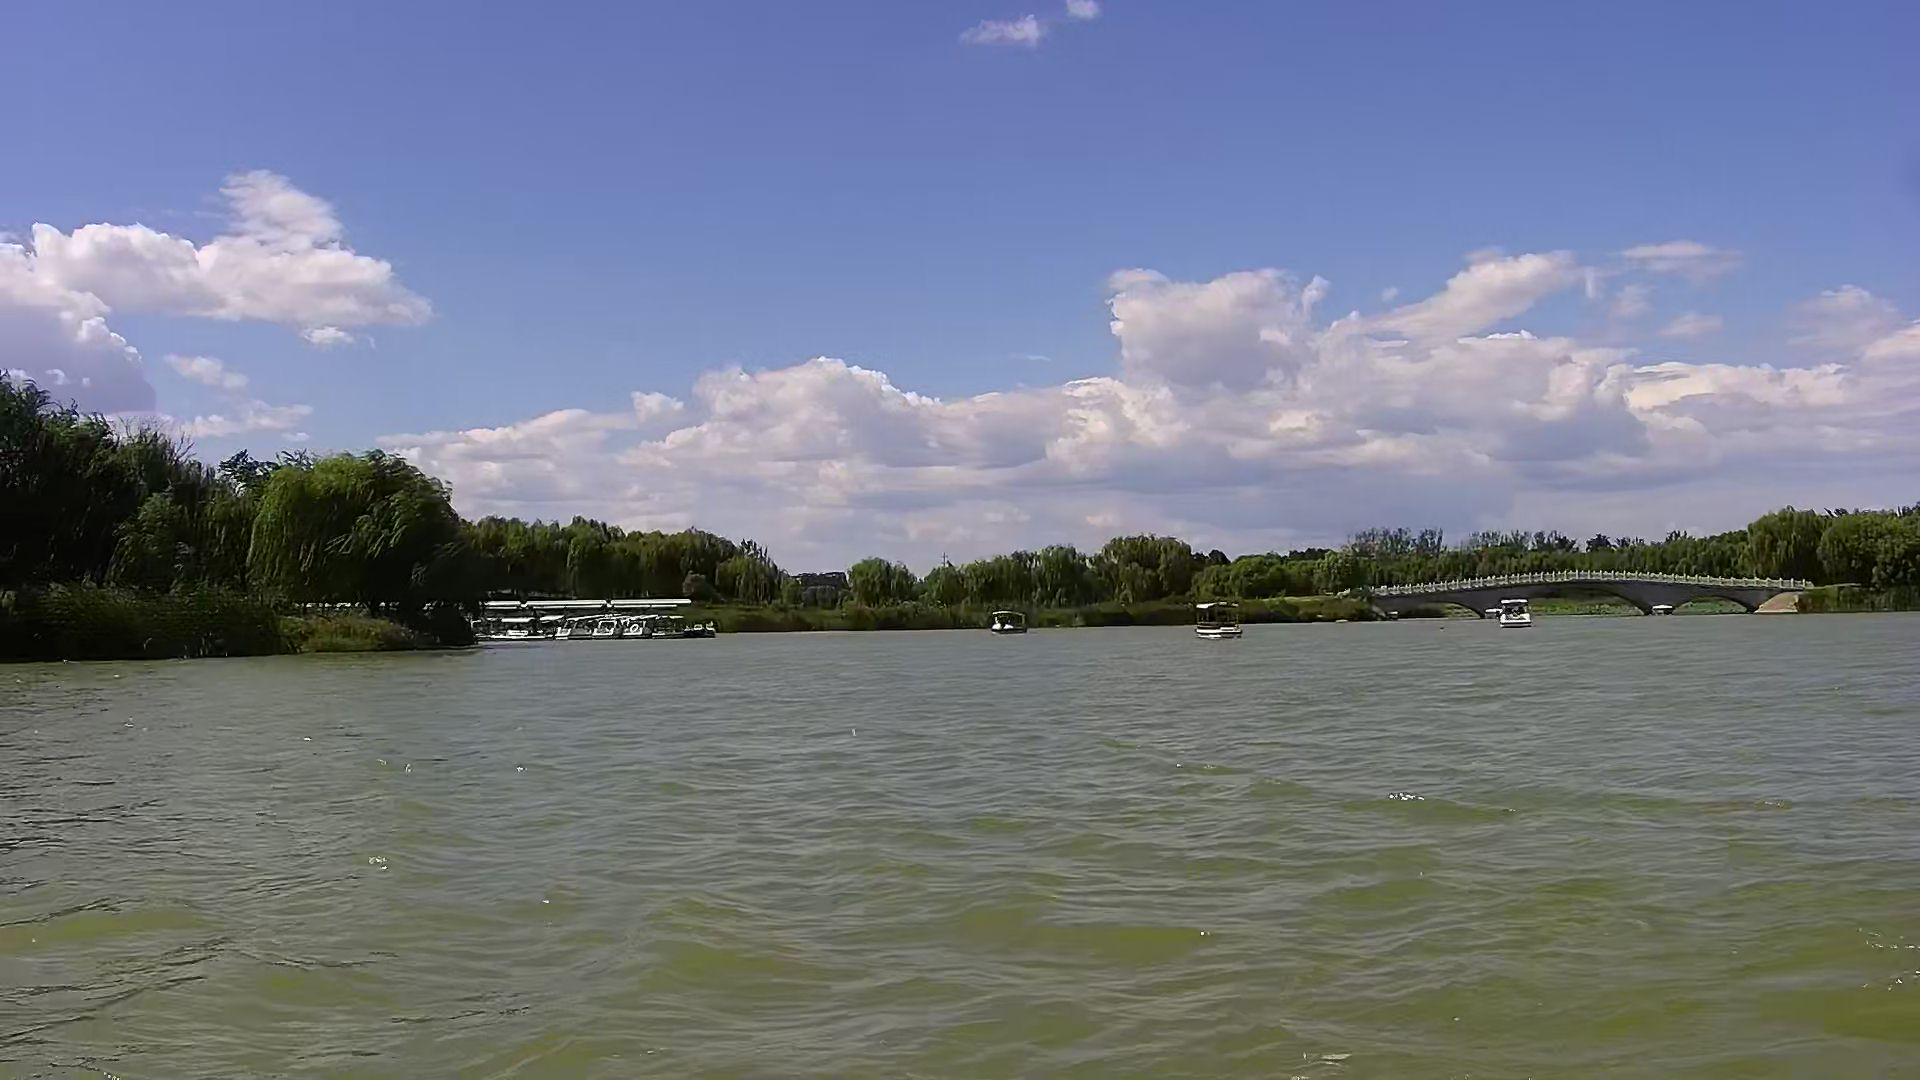boat: (1185, 593, 1255, 644), (1487, 593, 1545, 626), (617, 615, 695, 638), (986, 603, 1029, 638)
bridge: (1371, 566, 1803, 612)
